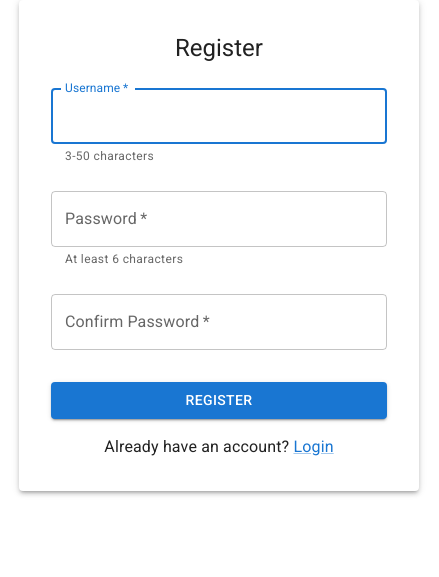
Scenario: Register › shows error when passwords do not match
Type "newuser" into the field at [219, 116], box [51, 88, 387, 144]
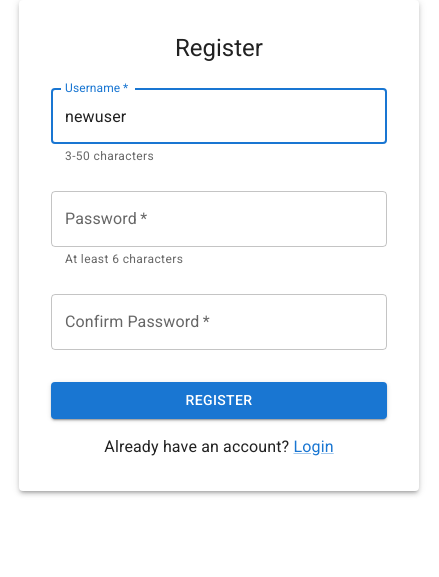
Type "password123" into the password field labelled "Password *" at [219, 219], box [51, 191, 387, 247]
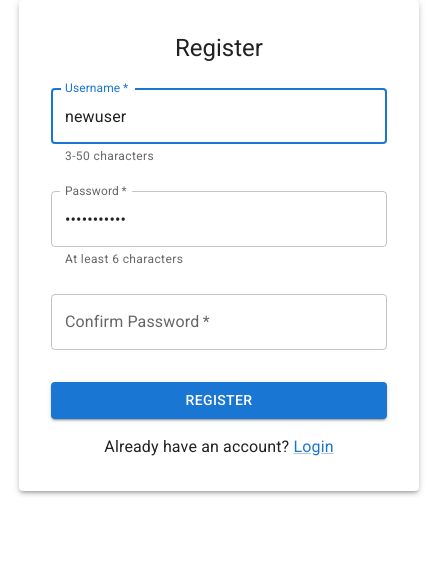
Type "password456" into the password field labelled "Confirm Password *" at [219, 322], box [51, 294, 387, 350]
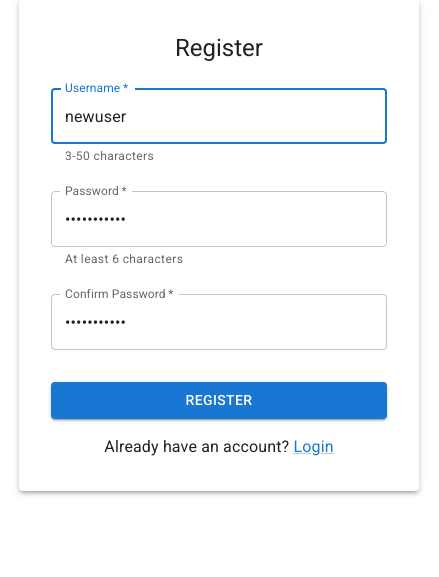
Click the button "Register" at [219, 400], box [51, 382, 387, 419]
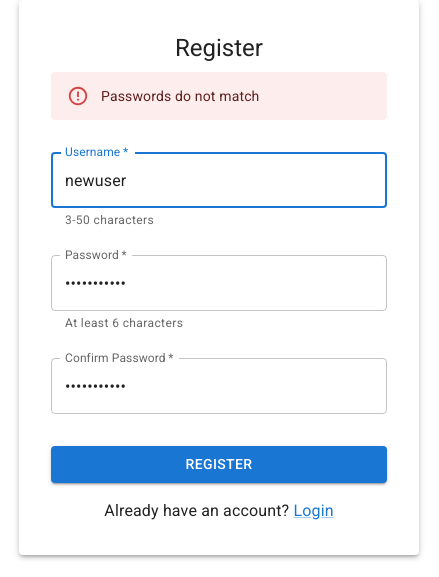
Expected: the text "Passwords do not match" is shown, [101, 88, 260, 104]
